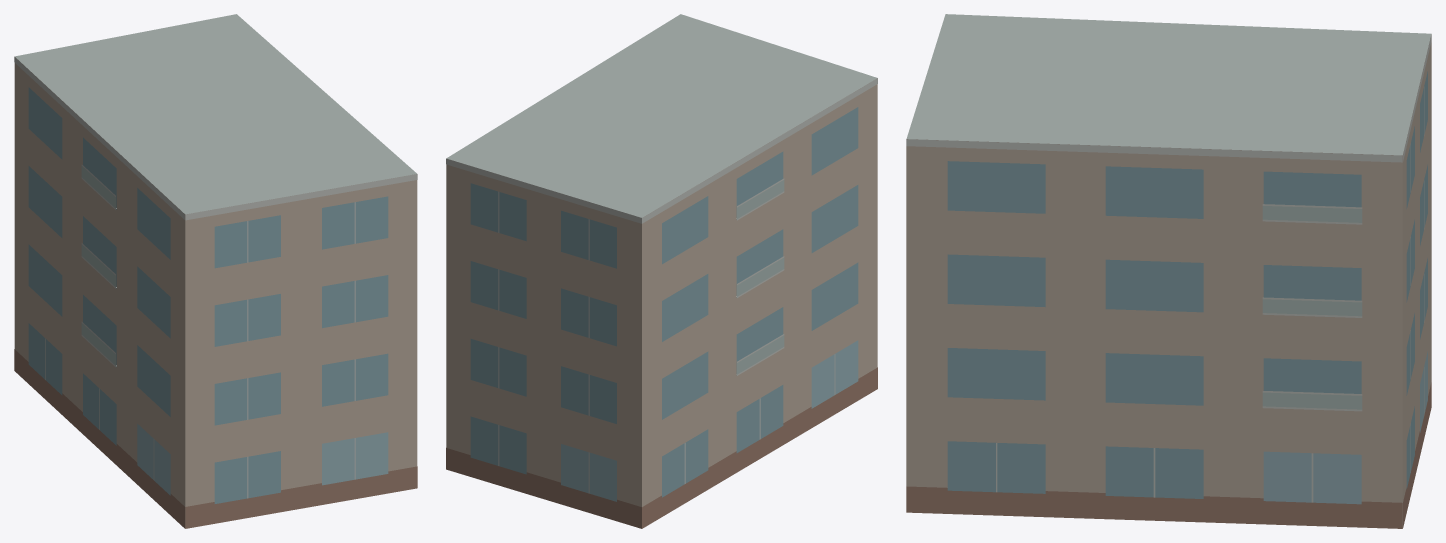
The model's file is survey-upis-33025971.glb.
3 views of the same model, side by side, from view 1: azimuth 30°, elevation 25°; view 2: azimuth 150°, elevation 25°; view 3: azimuth 270°, elevation 25° (orthographic). The views are drawn at different scales.
Parts seen in each view (by area): view 1: survey-upis-33025971.tmp; view 2: survey-upis-33025971.tmp; view 3: survey-upis-33025971.tmp.
Boxes of the visible parts, box(x1,y1,x2,y2) form: survey-upis-33025971.tmp: box(14, 14, 417, 528); survey-upis-33025971.tmp: box(446, 14, 877, 528); survey-upis-33025971.tmp: box(906, 14, 1431, 528).
Size of the model in its own units: 10.4 by 12.8 by 16.32.
